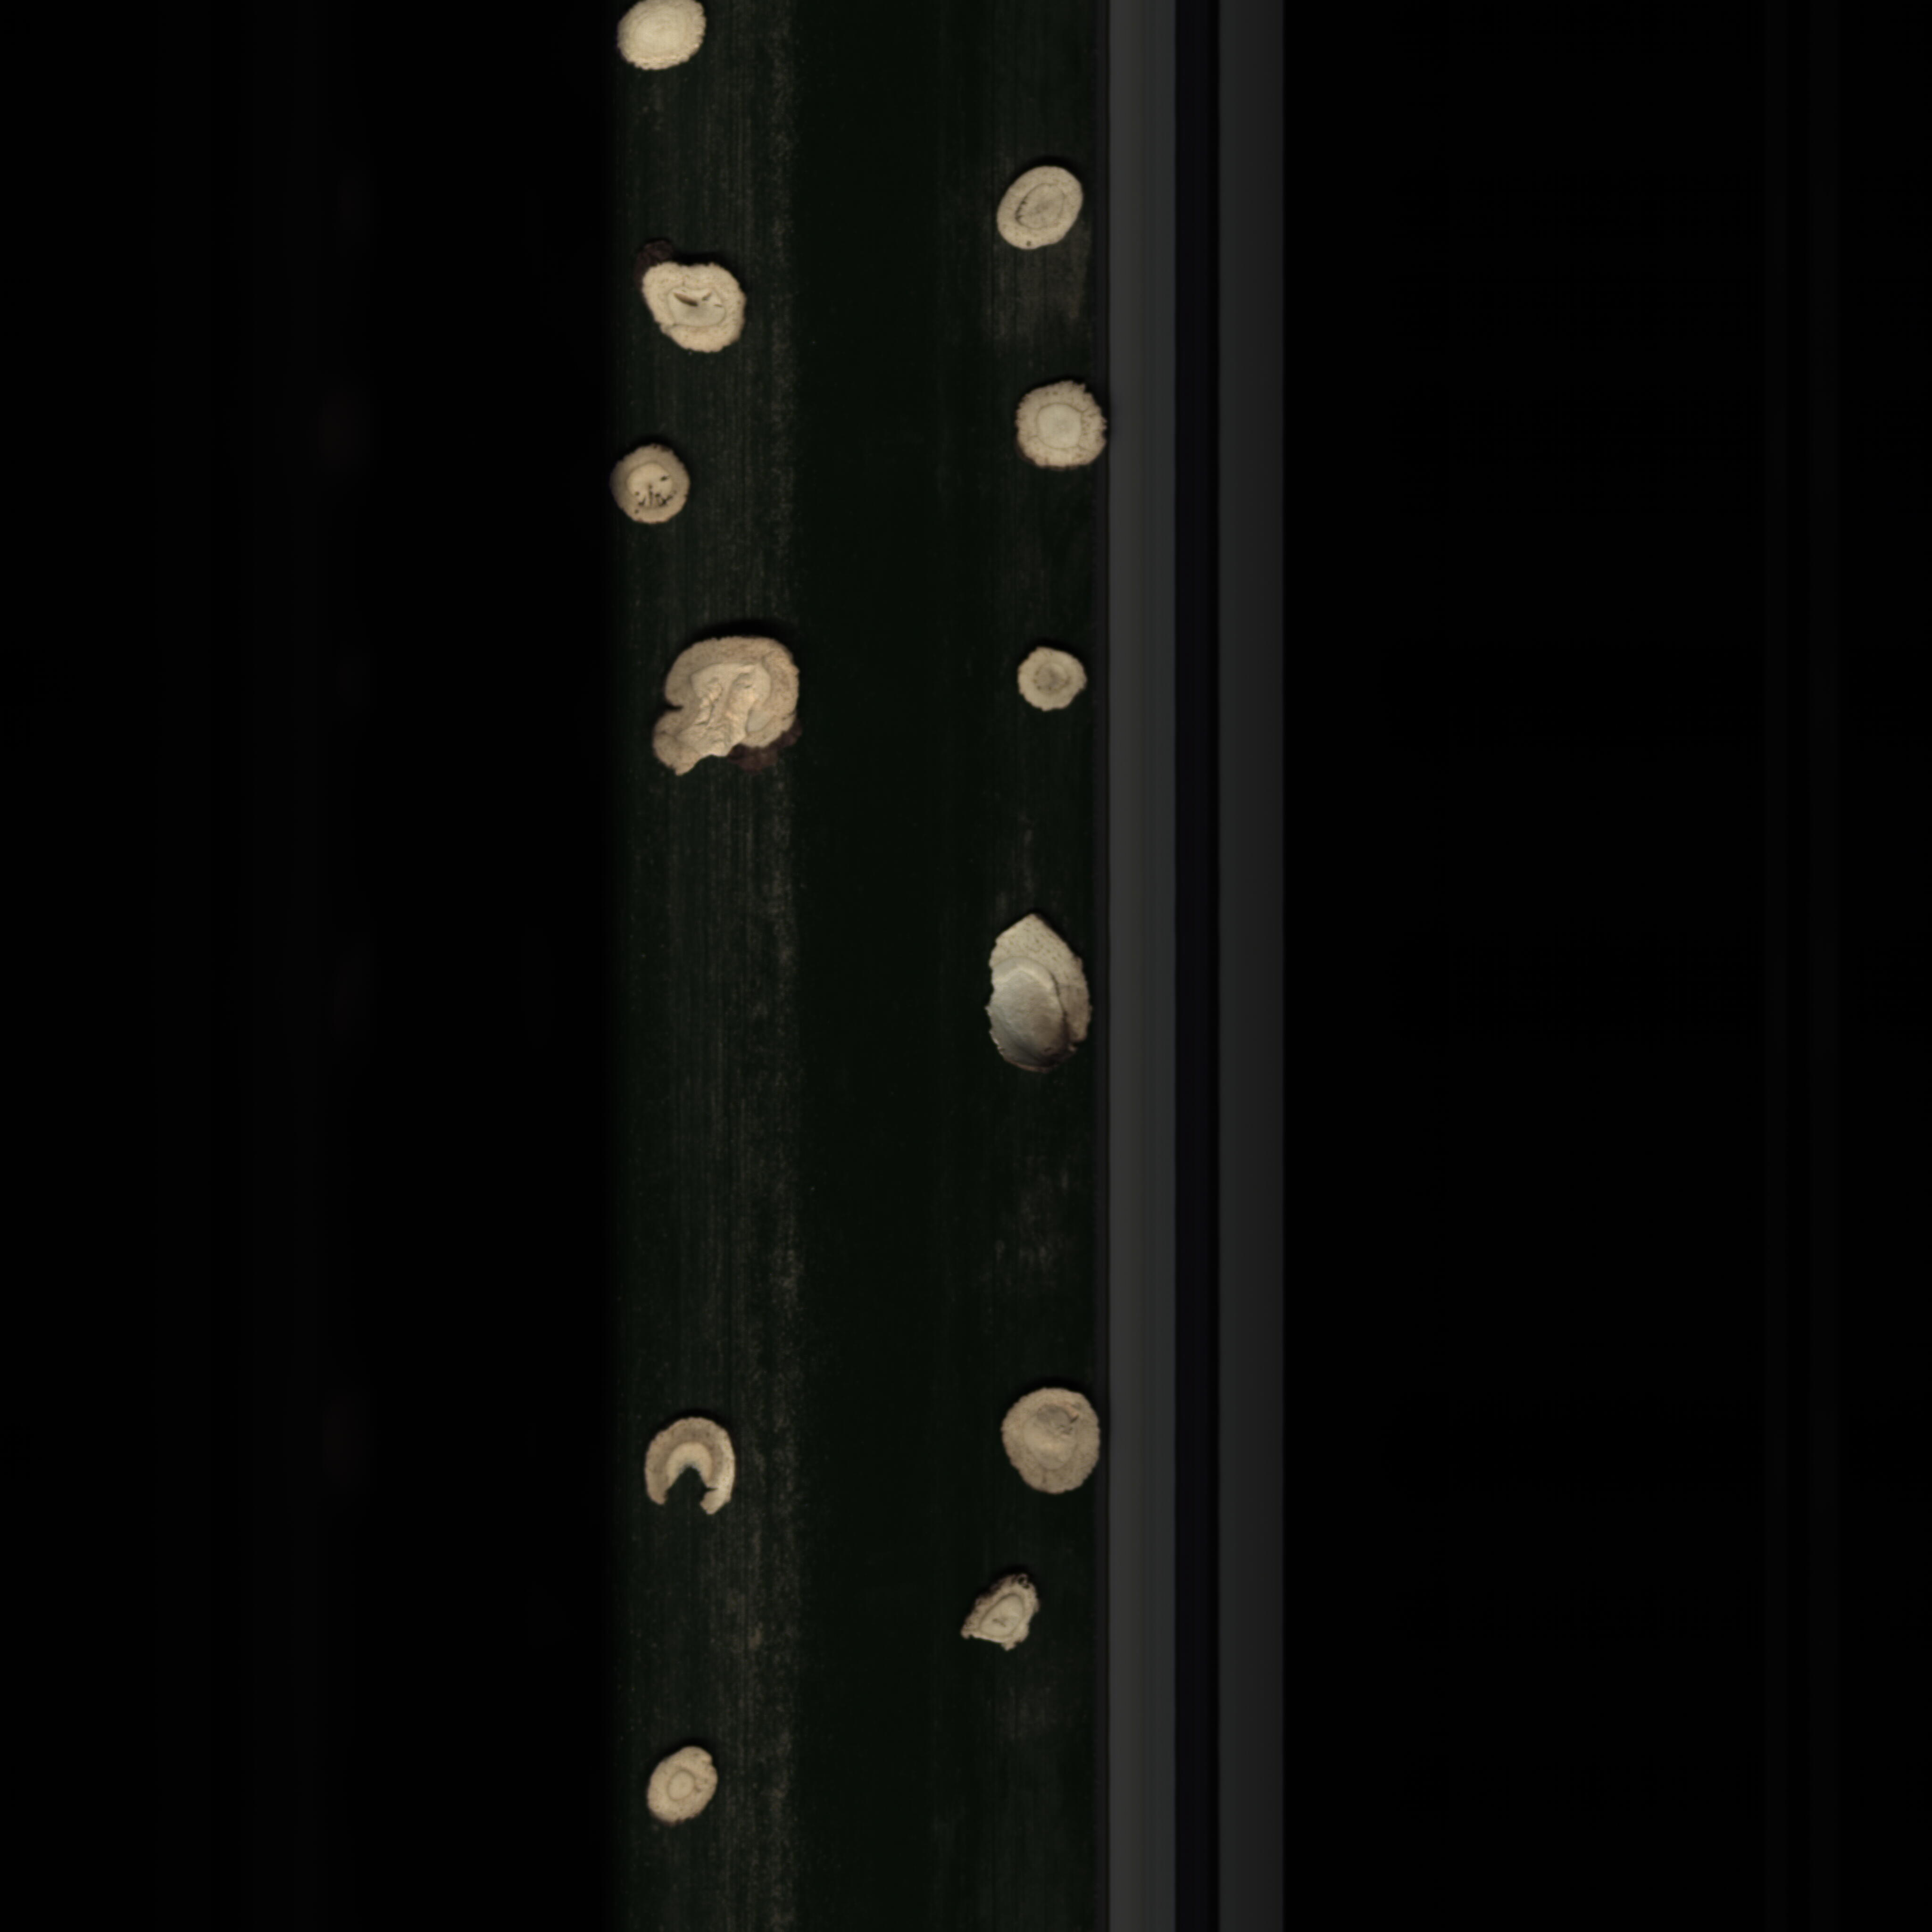debris: (980, 904, 1092, 1092), (633, 1408, 754, 1525)
distortion: (642, 628, 816, 794), (954, 1560, 1047, 1667)
hole: (635, 255, 757, 368)
